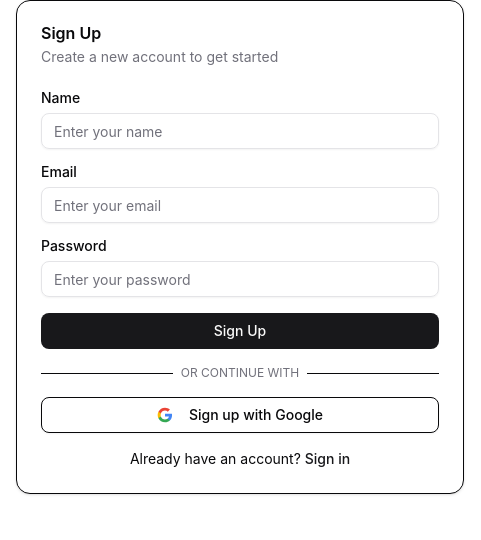
Test: SignUpForm › shows validation error for short name
Type "A" into the field with placeholder "Enter your name" at (240, 131), box [41, 113, 439, 149]
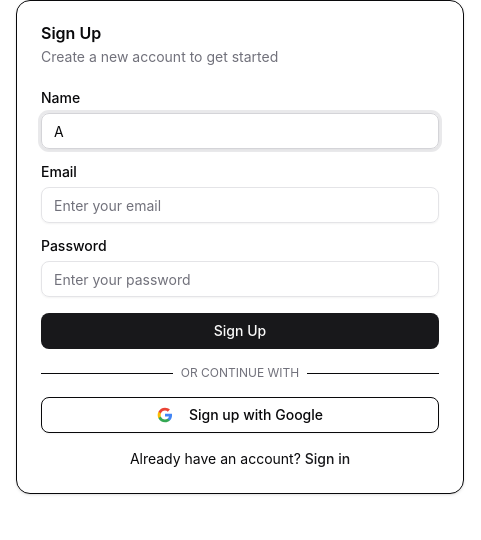
Type "test@example.com" into the field with placeholder "Enter your email" at (240, 205), box [41, 187, 439, 223]
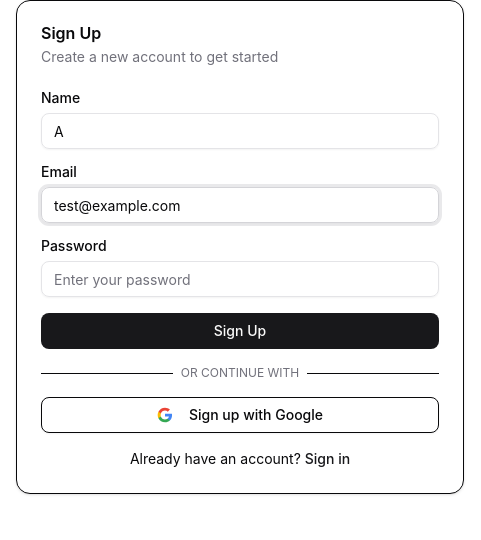
Type "password123" into the password field with placeholder "Enter your password" at (240, 279), box [41, 261, 439, 297]
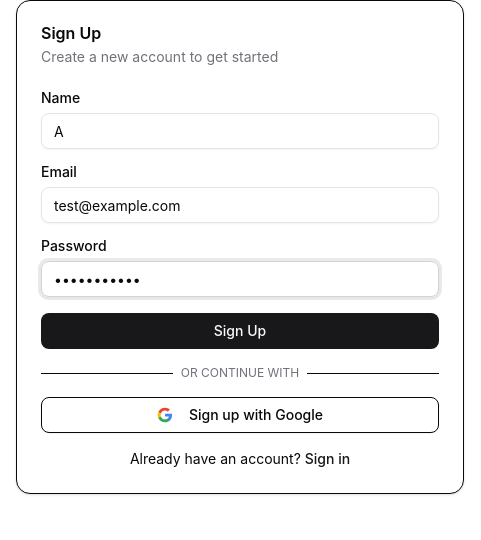
Click the button "Sign Up" at (240, 331), box [41, 313, 439, 349]
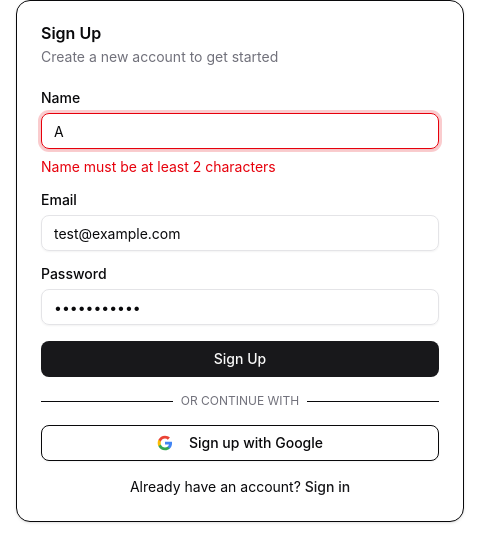
Expected: the text "Name must be at least 2 characters" is shown, [41, 158, 276, 175]
